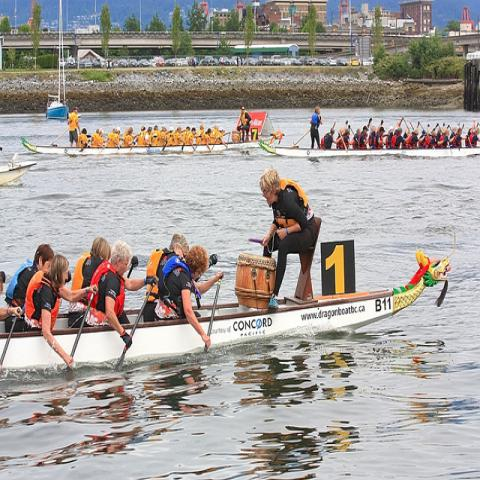car: (257, 54, 270, 66), (204, 56, 216, 66), (126, 59, 140, 67), (335, 58, 348, 66), (199, 58, 210, 67), (155, 59, 166, 67), (177, 58, 187, 66), (230, 56, 237, 67), (118, 59, 127, 67), (140, 59, 149, 67), (148, 59, 157, 67), (223, 57, 230, 65), (166, 60, 175, 66)
